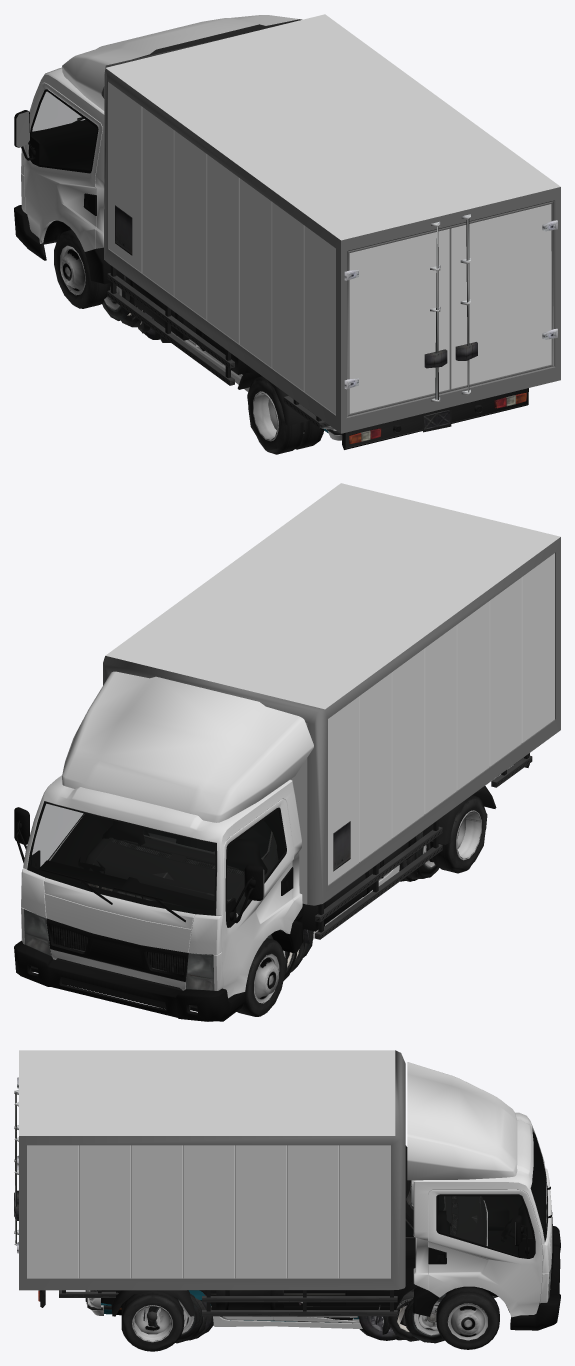
The model's file is fleet.glb.
The picture shows the model from 3 angles, top to bottom: view 1: azimuth 30°, elevation 25°; view 2: azimuth 150°, elevation 25°; view 3: azimuth 270°, elevation 25°; orthographic projection. The views are drawn at different scales.
Visible parts, largest first — view 1: car_lct_truck; view 2: car_lct_truck, car_shvan_van; view 3: car_lct_truck, car_shvan_van, car_kiri10, car_lifted_pickup, car_renegade.
Boxes of the visible parts, x1,y1,x2,y2 form: car_lct_truck: [14, 14, 560, 454]; car_lct_truck: [14, 483, 560, 1021]; car_shvan_van: [84, 829, 439, 972]; car_lct_truck: [14, 1050, 560, 1351]; car_shvan_van: [87, 1145, 487, 1343]; car_kiri10: [211, 1306, 362, 1328]; car_lifted_pickup: [90, 1205, 452, 1341]; car_renegade: [187, 1289, 413, 1340].
Size of the model in its own units: 3.02 by 3.19 by 7.19.
Materials: 69 (52 with a texture image).
